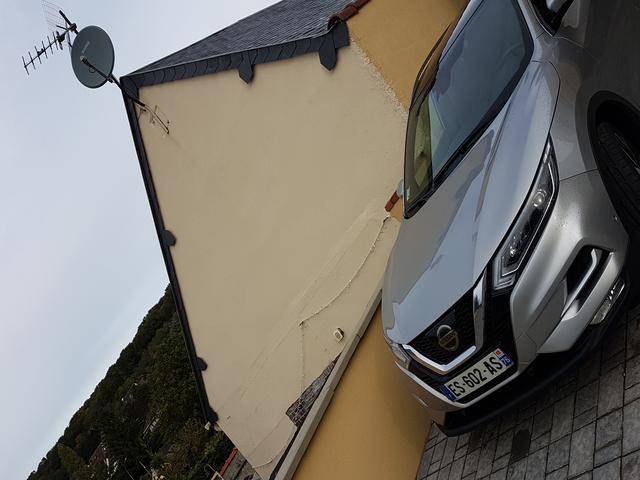Quashquai: (437, 343, 522, 417)
